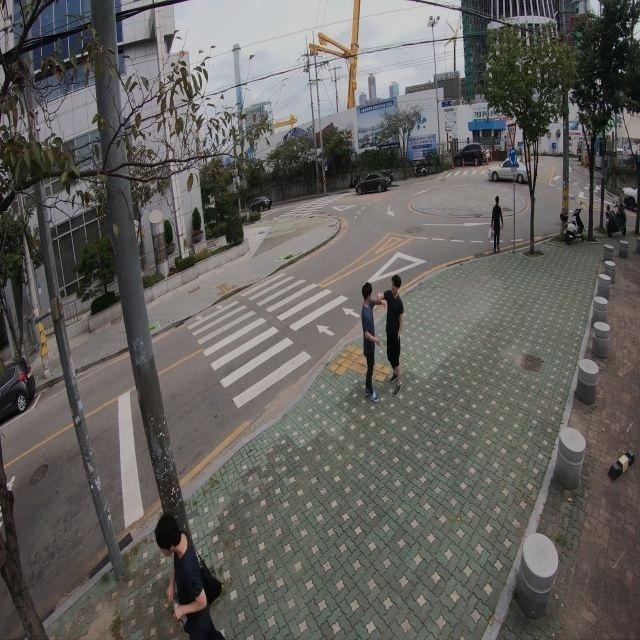fight: (359, 272, 405, 401)
